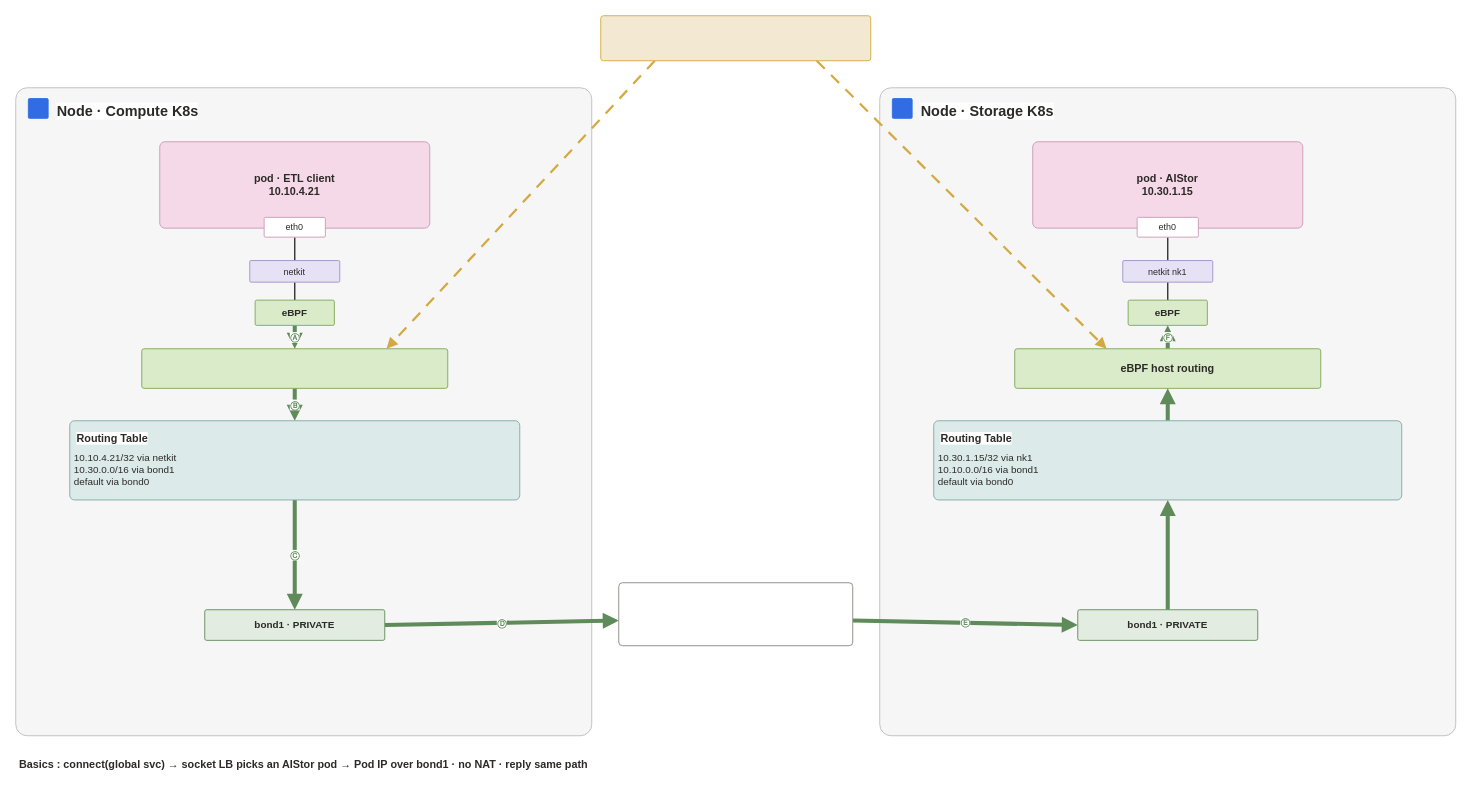
The diagram is 1472 pixels wide and 811 high, and some of its shapes have lost their labels. The shapes that lost their labels are listed below. From the top down, each one's box as (x1, y1, x2, y2) in pixels, then its label:
(600, 15, 871, 61): ClusterMesh
(141, 348, 448, 388): eBPF socket LB
(618, 582, 853, 646): Fabric VRF PRIVATE
